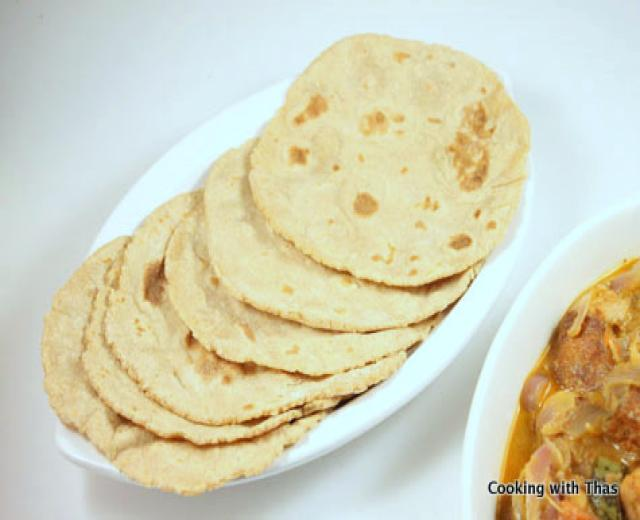chapati: (98, 36, 527, 422)
